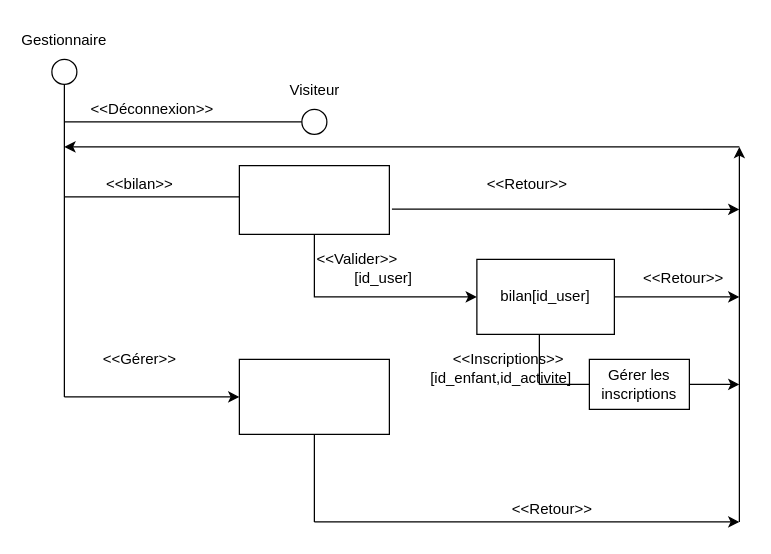
Image size: 771x554. Some labels were removed from this diagram. Each missing label, with the centre of its shape:
"Gérer une activité" goes at [313,396].
"Voir le bilan" goes at [313,199].
